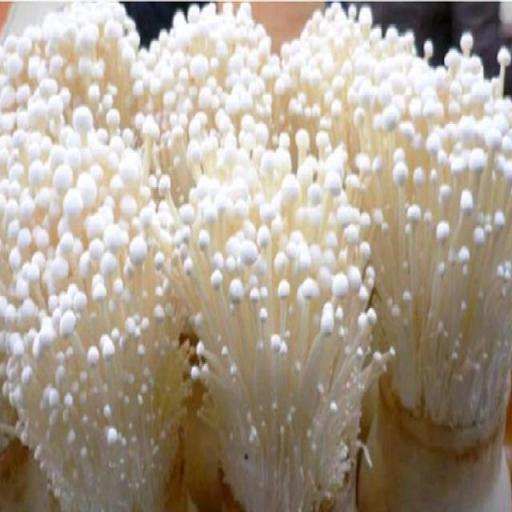Enoki Mushroom: (165, 143, 368, 512), (0, 133, 185, 512), (352, 35, 512, 460), (258, 0, 422, 151), (0, 0, 149, 143), (134, 0, 287, 135)
